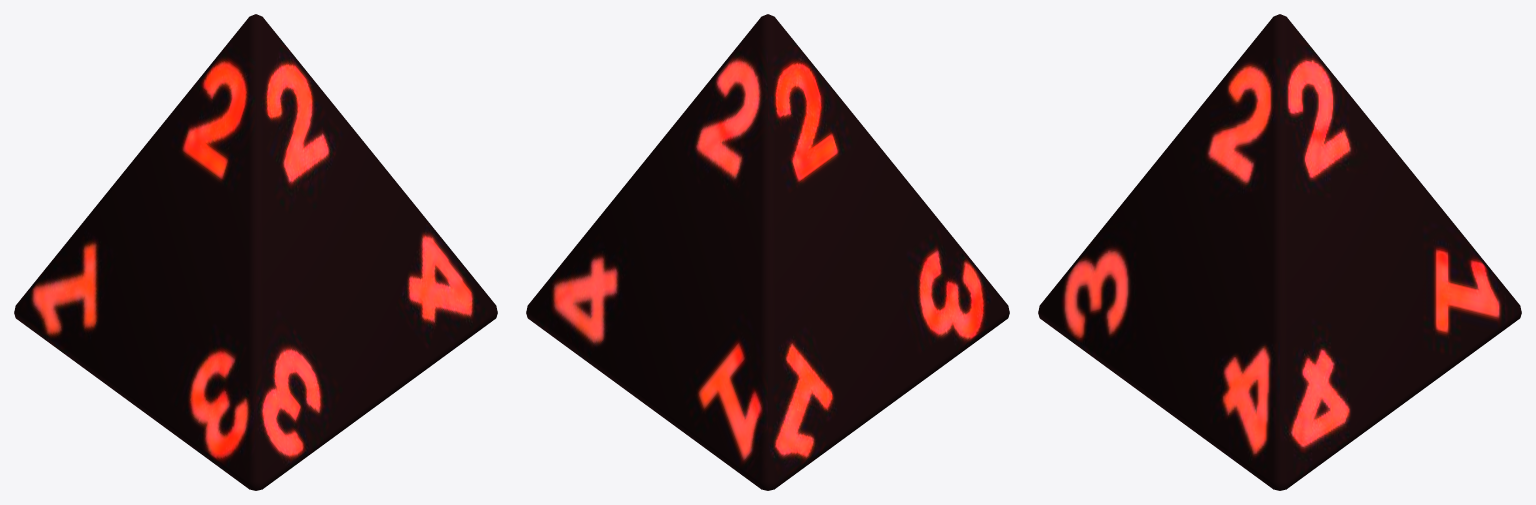
3 views of the same model, side by side, from view 1: azimuth 30°, elevation 25°; view 2: azimuth 150°, elevation 25°; view 3: azimuth 270°, elevation 25° (orthographic).
Parts seen in each view (by area): view 1: 4Yellow; view 2: 4Yellow; view 3: 4Yellow.
Boxes of the visible parts, x1,y1,x2,y2 form: 4Yellow: (14,14,497,490); 4Yellow: (526,14,1009,490); 4Yellow: (1038,14,1521,490).
Size of the model in its own units: 1.35 by 1.28 by 1.55.
Materials: 1 (1 with a texture image).
